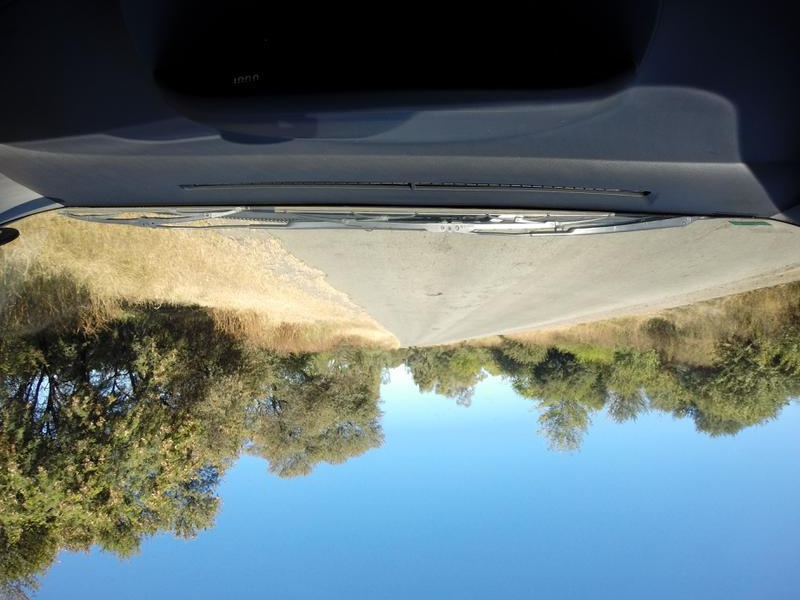pothole: (423, 283, 444, 303)
